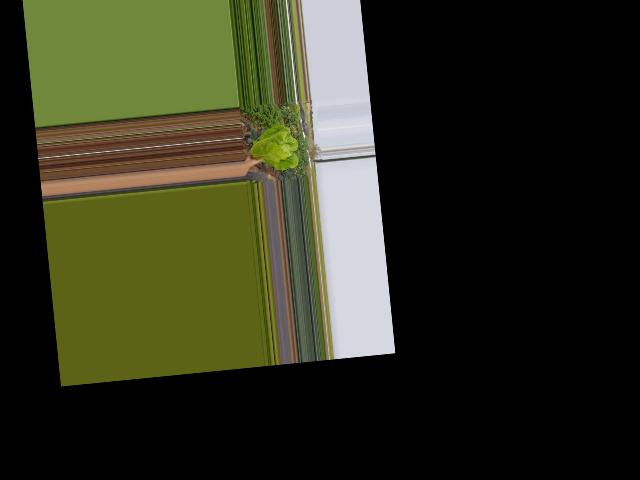lettuce: (244, 121, 300, 175)
